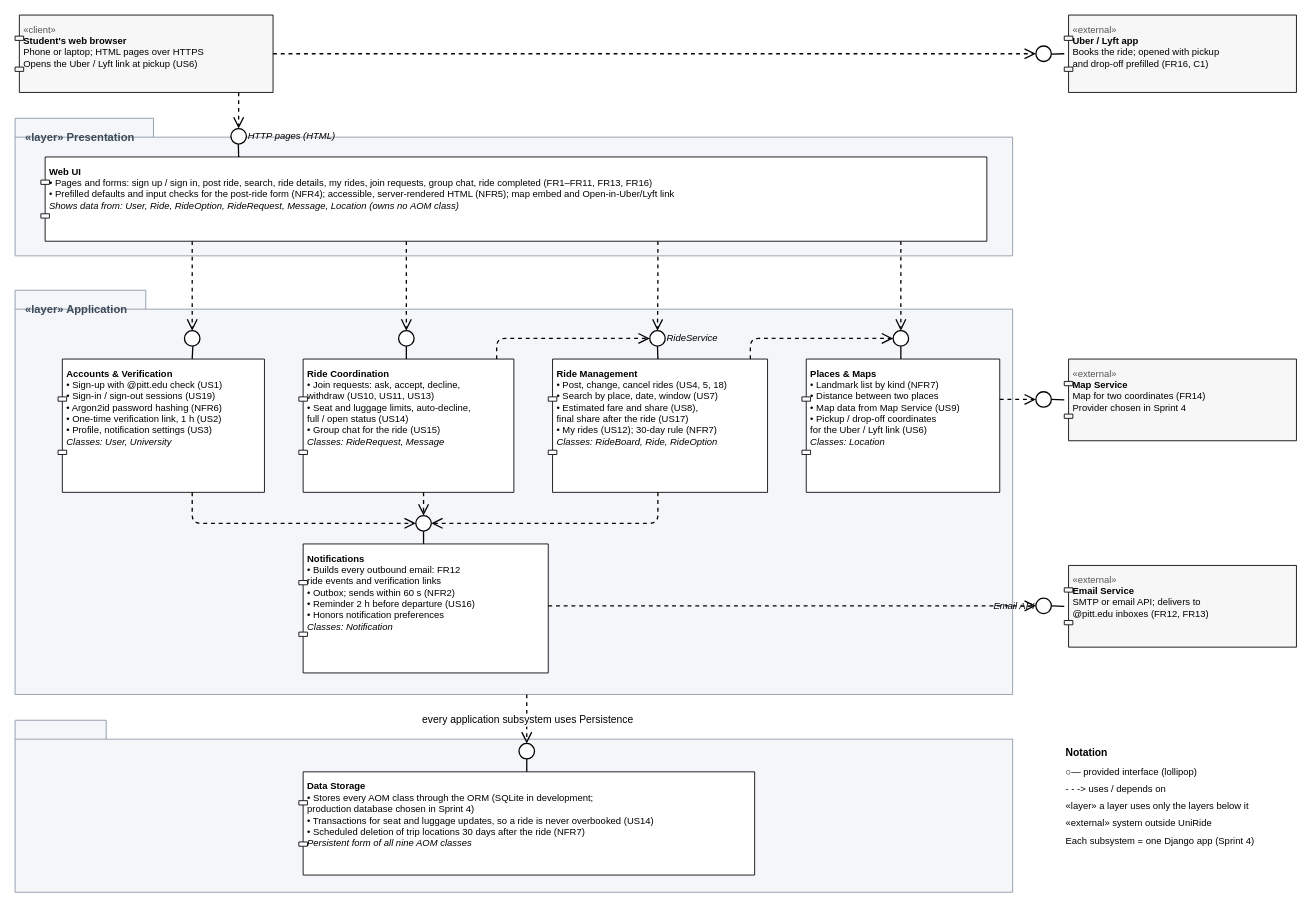
Image size: 1312x907. Some labels were removed from this diagram. Each missing label, with the box of its shape:
AccountService: (183, 330, 200, 346)
CoordinationService: (398, 330, 414, 346)
Map API: (1035, 391, 1052, 407)
NotificationService: (415, 515, 432, 531)
Persistence: (518, 742, 535, 759)
PlaceService: (892, 330, 909, 346)
Ride-hailing deep link: (1035, 45, 1052, 62)
«layer» Data: (14, 719, 1013, 892)
